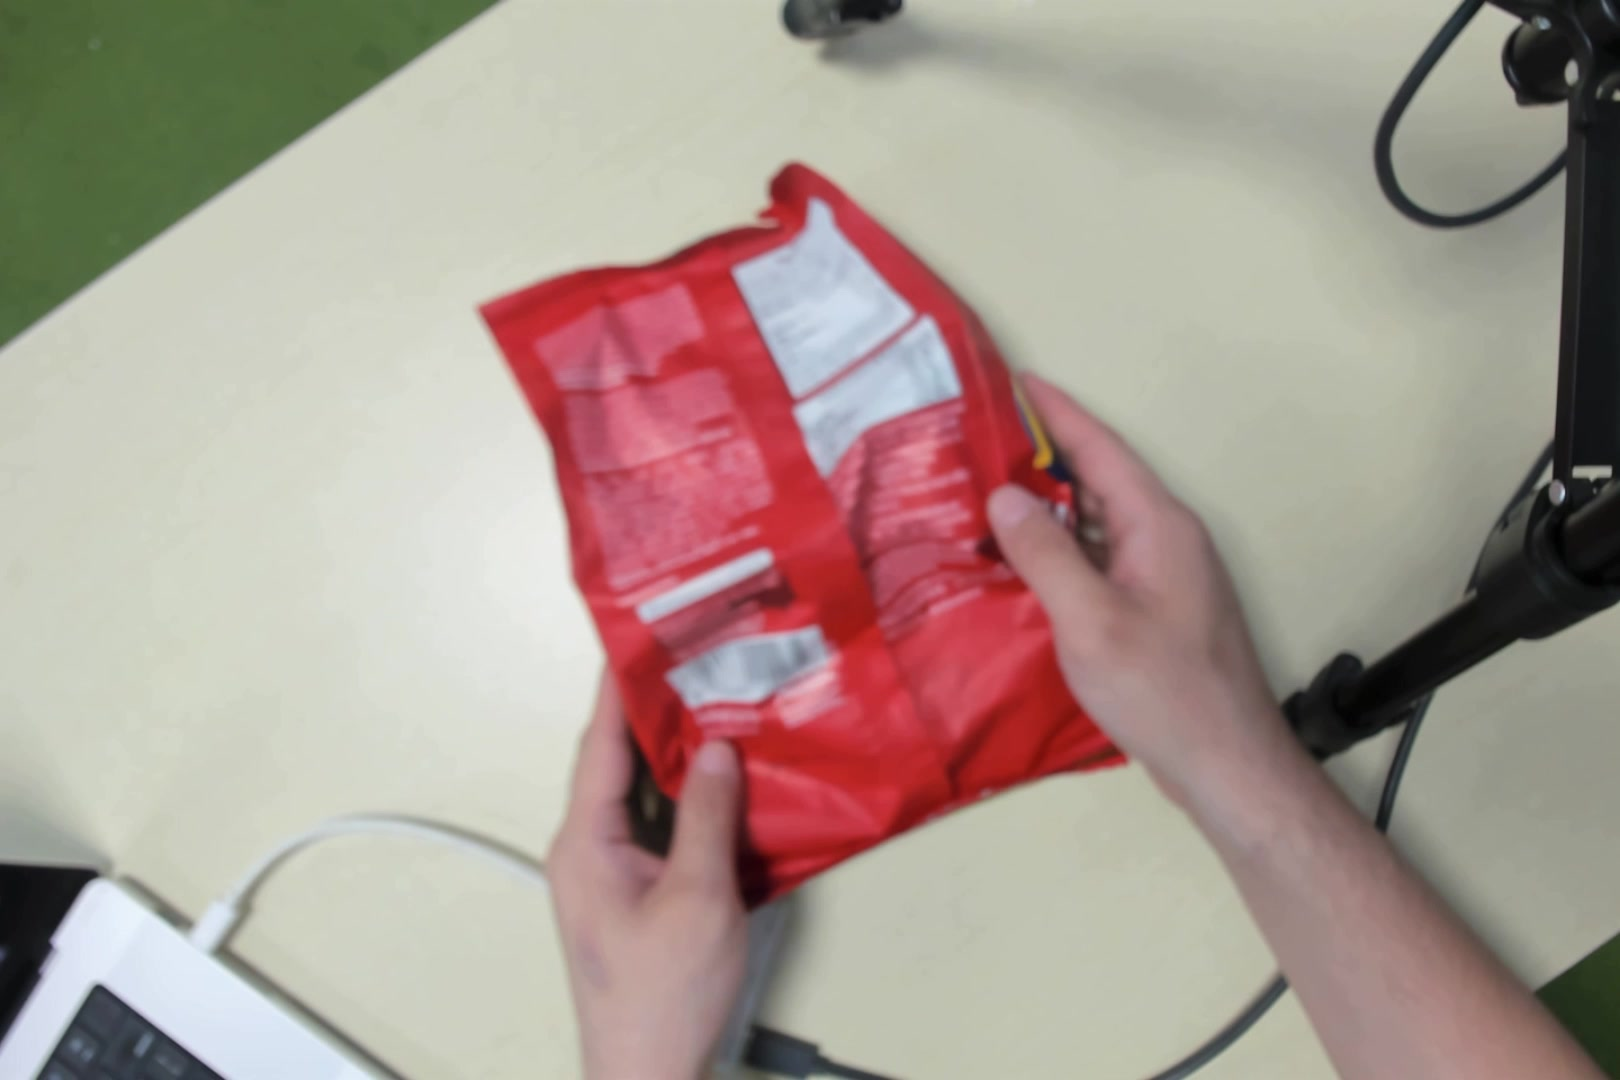BiscuitsCrackersCookies_200-299g_NonHalal_NonHealthy: (599, 217, 1074, 885)
